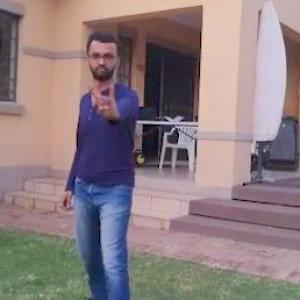takeoff-hand: (85, 76, 127, 122)
